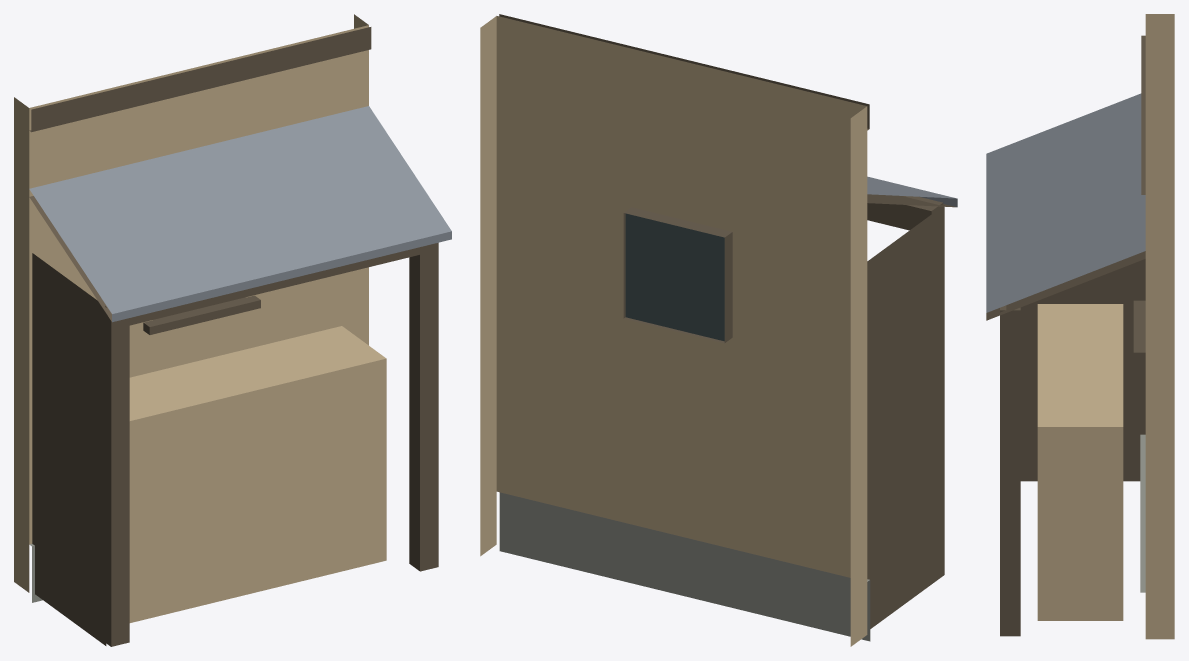
Rendered from base-stair.fbx.
The picture shows the model from 3 angles, left to right: view 1: azimuth 30°, elevation 25°; view 2: azimuth 150°, elevation 25°; view 3: azimuth 270°, elevation 25°; orthographic projection. The views are drawn at different scales.
Visible parts, largest first — view 1: a2015/0/base-stair; view 2: a2015/0/base-stair; view 3: a2015/0/base-stair.
Boxes of the visible parts, x1,y1,x2,y2 form: a2015/0/base-stair: [14, 14, 451, 646]; a2015/0/base-stair: [480, 14, 957, 646]; a2015/0/base-stair: [986, 14, 1174, 639].
Bounding box in the file's own units: 2.2 × 3.05 × 1.1.
